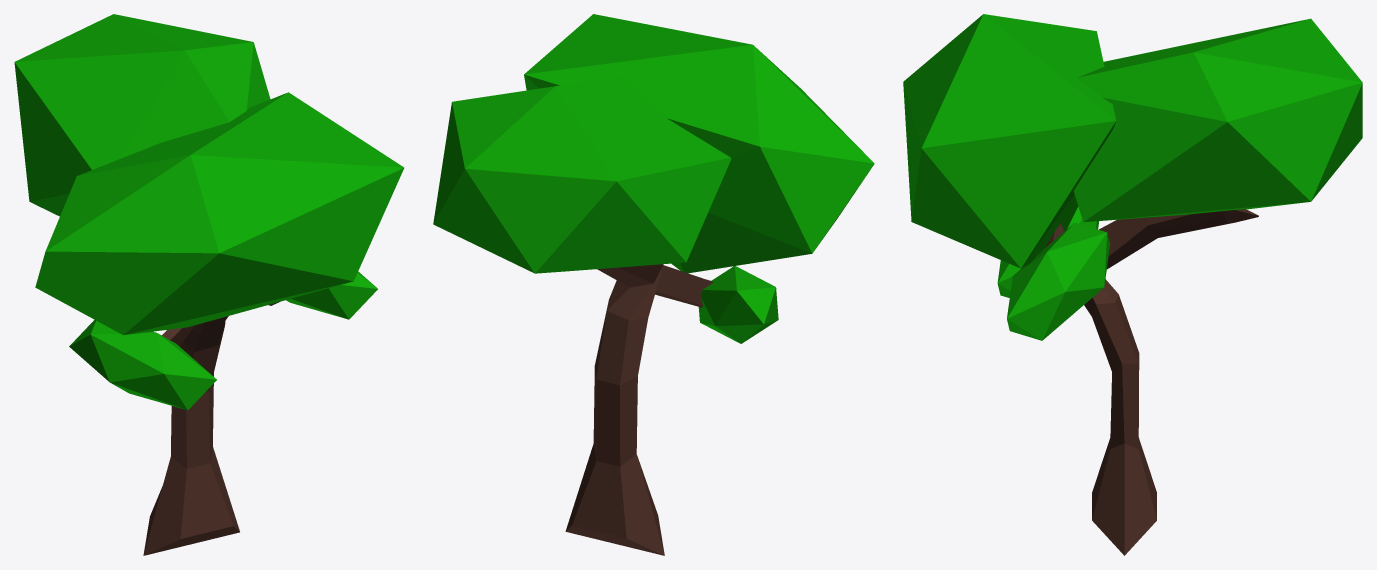
Rendered from smallTreeTwo.fbx.
The picture shows the model from 3 angles, left to right: view 1: azimuth 30°, elevation 25°; view 2: azimuth 150°, elevation 25°; view 3: azimuth 270°, elevation 25°; orthographic projection. The views are drawn at different scales.
Parts seen in each view (by area): view 1: Cube; view 2: Cube; view 3: Cube.
Boxes of the visible parts, bbox=[...] form: Cube: bbox=[14, 14, 404, 555]; Cube: bbox=[433, 14, 874, 555]; Cube: bbox=[903, 14, 1362, 555].
Size of the model in its own units: 260 by 349 by 295.
